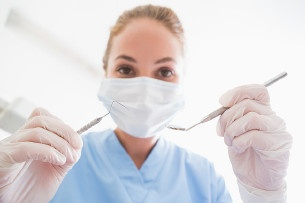Mask: (95, 45, 190, 140)
